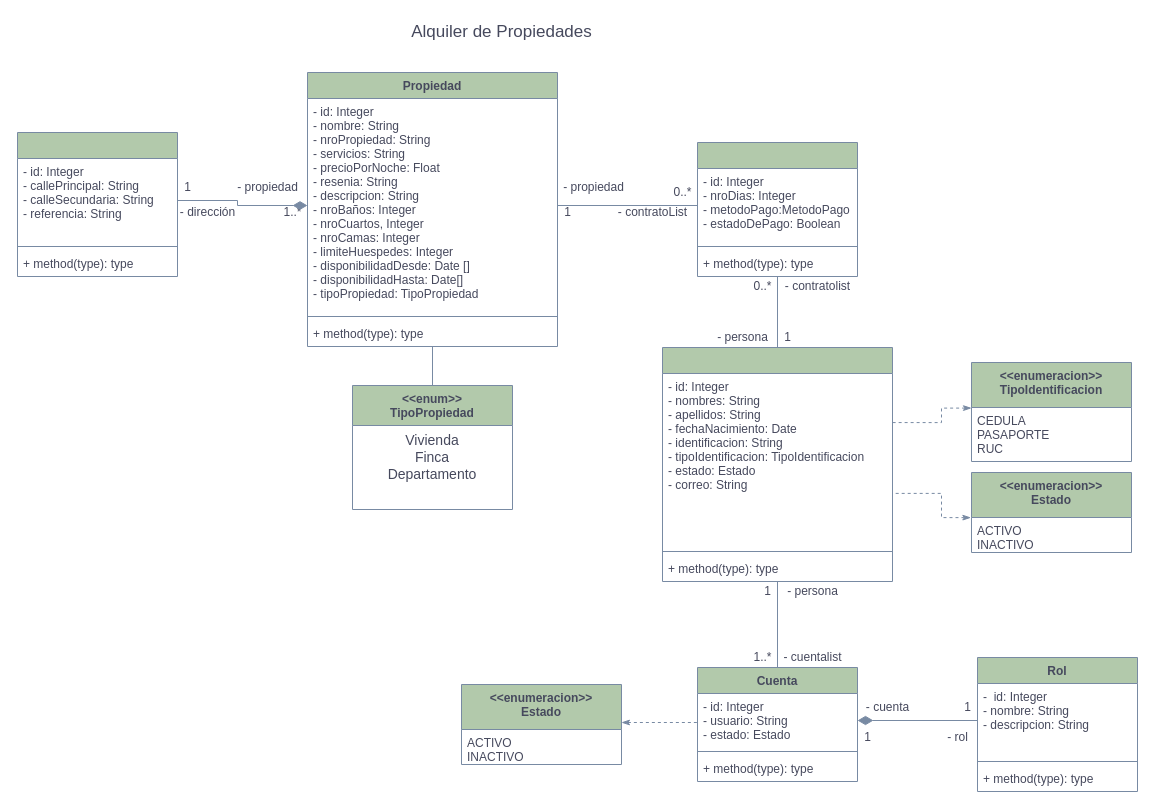
The diagram is 1155 pixels wide and 811 high, and some of its shapes have lost their labels. Each missing label, with the box of its shape:
Contrato: (696, 142, 858, 276)
Dirección: (16, 132, 178, 276)
Persona: (662, 346, 892, 582)
